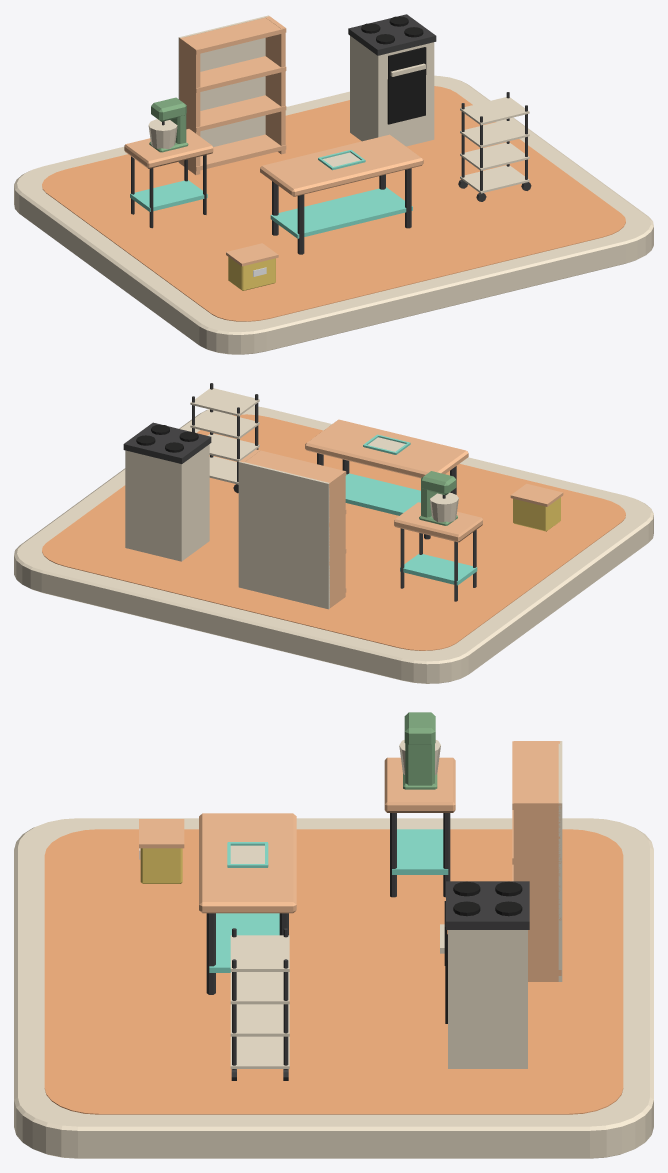
The model's file is room.fbx.
3 views of the same model, one above another, from view 1: azimuth 30°, elevation 25°; view 2: azimuth 150°, elevation 25°; view 3: azimuth 270°, elevation 25° (orthographic). The views are drawn at different scales.
Visible parts, largest first — view 1: COM-02 Floor Surface, COM-01 Rounded Base Direct, Stove, Worktop, Back, Lower shelf, Side.001, Side, Shelf.003, Hob, Shelf.001, Shelf.002 (+13 smaller); view 2: COM-02 Floor Surface, COM-01 Rounded Base Direct, Back, Stove, Worktop, Lower shelf, Side, Hob, Worktop.001, Shelf.003, Lower shelf.001, Box (+7 smaller); view 3: COM-02 Floor Surface, COM-01 Rounded Base Direct, Stove, Worktop, Side.001, Shelf.003, Hob, Worktop.001, Lower shelf.001, Rack shelf.003, Lower shelf, Rack shelf.002 (+9 smaller).
Part boxes in pixels (<box>): COM-02 Floor Surface: <box>42,86,625,321</box>; COM-01 Rounded Base Direct: <box>14,75,653,354</box>; Stove: <box>350,36,434,146</box>; Worktop: <box>260,134,423,196</box>; Back: <box>178,15,269,163</box>; Lower shelf: <box>270,187,412,238</box>; Side.001: <box>265,16,285,154</box>; Side: <box>179,37,200,174</box>; Shelf.003: <box>185,17,286,54</box>; Hob: <box>348,14,436,55</box>; Shelf.001: <box>186,95,286,131</box>; Shelf.002: <box>181,56,286,92</box>; COM-02 Floor Surface: <box>42,414,625,650</box>; COM-01 Rounded Base Direct: <box>14,405,653,683</box>; Back: <box>238,461,329,609</box>; Stove: <box>125,444,209,561</box>; Worktop: <box>305,419,468,478</box>; Lower shelf: <box>345,473,420,515</box>; Side: <box>326,470,345,607</box>; Hob: <box>123,422,211,463</box>; Worktop.001: <box>394,502,482,542</box>; Shelf.003: <box>245,449,346,487</box>; Lower shelf.001: <box>400,554,477,585</box>; Box: <box>513,497,560,531</box>; COM-02 Floor Surface: <box>44,829,623,1114</box>; COM-01 Rounded Base Direct: <box>14,818,653,1158</box>; Stove: <box>448,930,527,1068</box>; Worktop: <box>199,813,296,913</box>; Side.001: <box>513,800,560,981</box>; Shelf.003: <box>512,741,561,809</box>; Hob: <box>446,881,529,929</box>; Worktop.001: <box>384,757,455,812</box>; Lower shelf.001: <box>392,829,448,874</box>; Rack shelf.003: <box>230,935,289,971</box>; Lower shelf: <box>209,913,279,972</box>; Rack shelf.002: <box>230,972,289,1004</box>.
Size of the model in its own units: 600 by 190 by 520.
